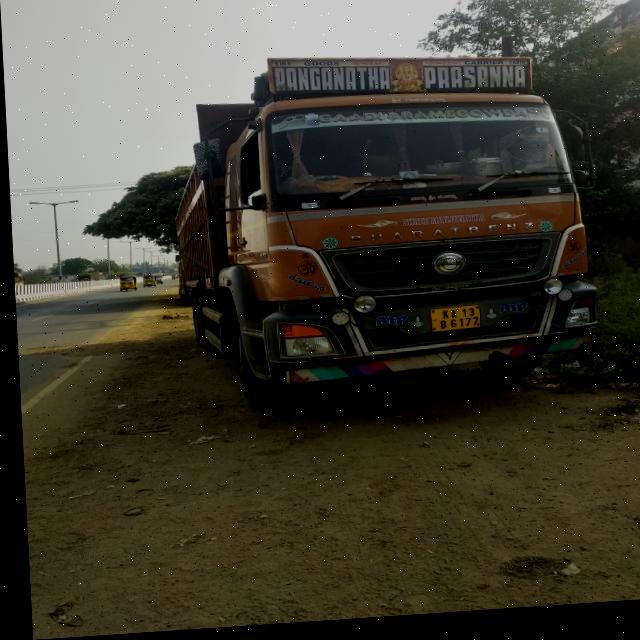plate: (423, 309, 480, 343)
